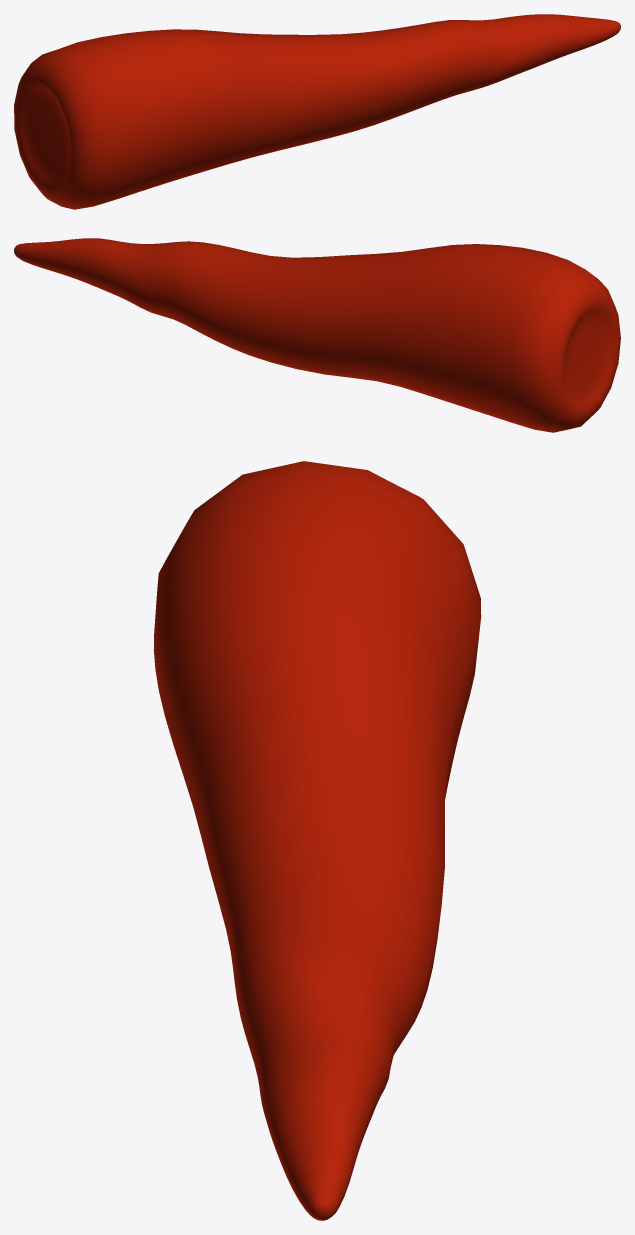
File: Carrot2.obj
The picture shows the model from 3 angles, top to bottom: view 1: azimuth 30°, elevation 25°; view 2: azimuth 150°, elevation 25°; view 3: azimuth 270°, elevation 25°; orthographic projection. The views are drawn at different scales.
Visible parts, largest first — view 1: Carrot2_Cylinder.042; view 2: Carrot2_Cylinder.042; view 3: Carrot2_Cylinder.042.
Boxes of the visible parts, box(x1,y1,x2,y2) form: Carrot2_Cylinder.042: box(14, 14, 620, 209); Carrot2_Cylinder.042: box(14, 238, 620, 432); Carrot2_Cylinder.042: box(153, 461, 481, 1220).
Bounding box in the file's own units: 0.2135 × 0.0548 × 0.0525.
